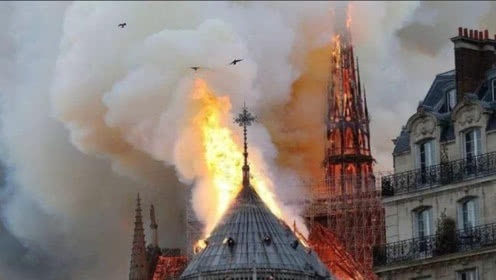fire: (189, 77, 244, 245), (248, 159, 311, 243), (327, 6, 354, 116)
